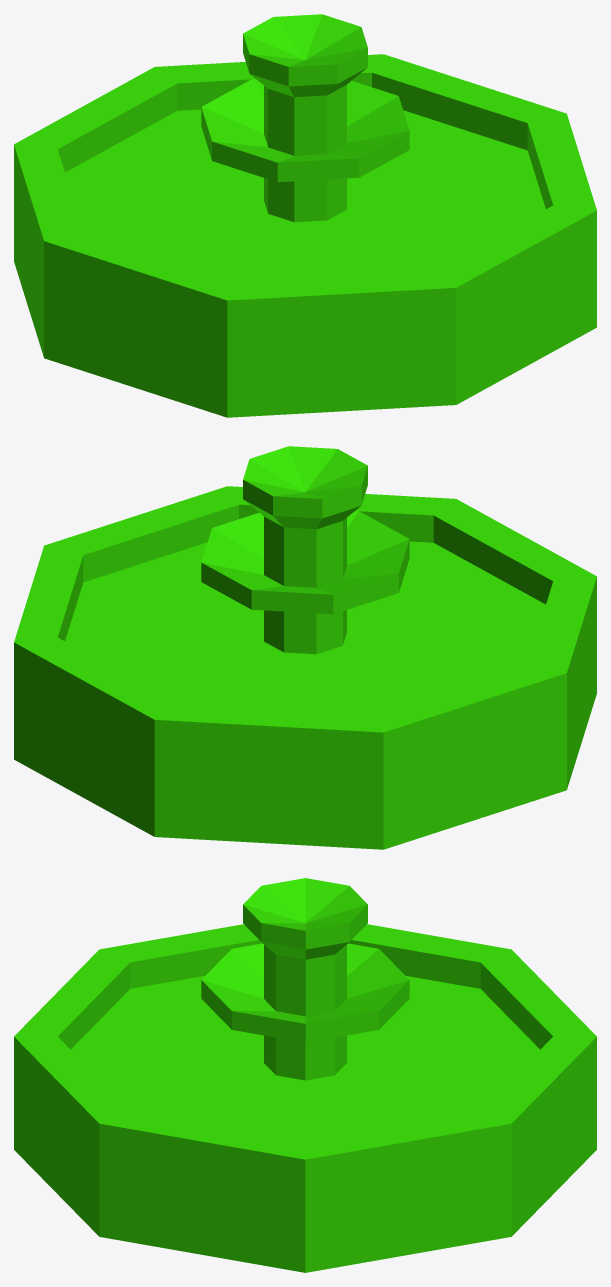
3 views of the same model, one above another, from view 1: azimuth 30°, elevation 25°; view 2: azimuth 150°, elevation 25°; view 3: azimuth 270°, elevation 25° (orthographic). The views are drawn at different scales.
Parts seen in each view (by area): view 1: fountain01_round_water; view 2: fountain01_round_water; view 3: fountain01_round_water.
Boxes of the visible parts, <box> form: fountain01_round_water: <box>14,14,596,417</box>; fountain01_round_water: <box>14,446,596,849</box>; fountain01_round_water: <box>14,878,596,1272</box>.
Bounding box in the file's own units: 2.8 × 1.3 × 2.8.
